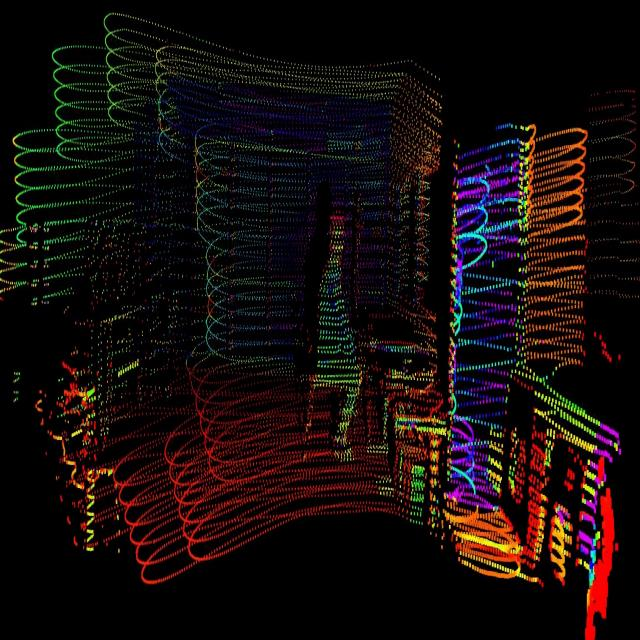human: (312, 199, 366, 479)
